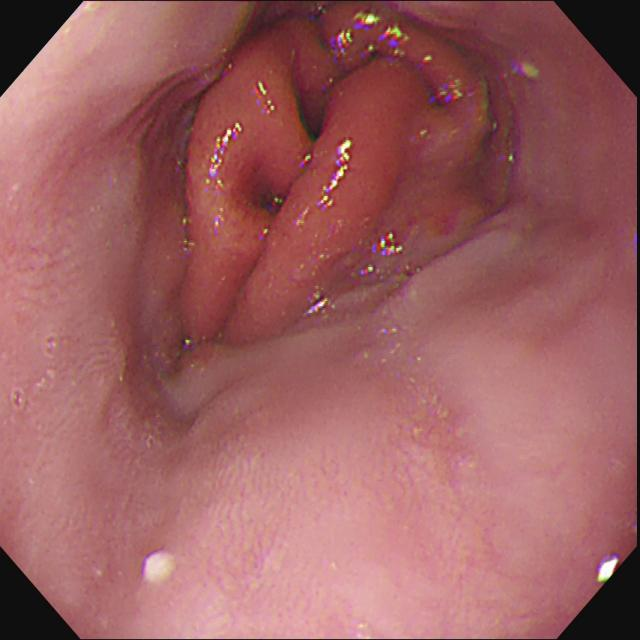I: (162, 11, 521, 345)
J: (144, 552, 179, 587)
U: (318, 139, 353, 210), (209, 122, 242, 176), (380, 27, 410, 62), (431, 75, 463, 107), (372, 230, 407, 258), (329, 30, 355, 57), (302, 292, 328, 318), (600, 555, 618, 584), (355, 11, 380, 29)
